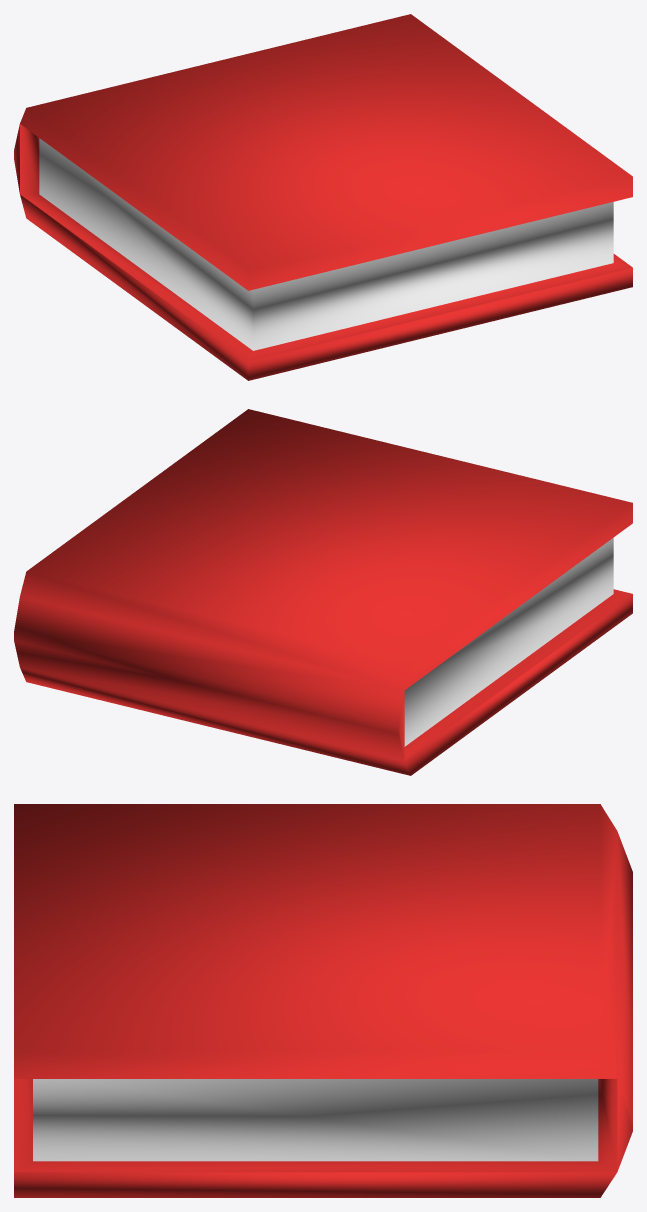
Rendered from Book Red.fbx.
3 views of the same model, one above another, from view 1: azimuth 30°, elevation 25°; view 2: azimuth 150°, elevation 25°; view 3: azimuth 270°, elevation 25° (orthographic). The views are drawn at different scales.
Visible parts, largest first — view 1: Cube; view 2: Cube; view 3: Cube.
Part boxes in pixels (<box>): Cube: <box>14,14,632,380</box>; Cube: <box>14,409,632,775</box>; Cube: <box>14,804,632,1197</box>.
Size of the model in its own units: 91.21 by 25.05 by 96.26.
